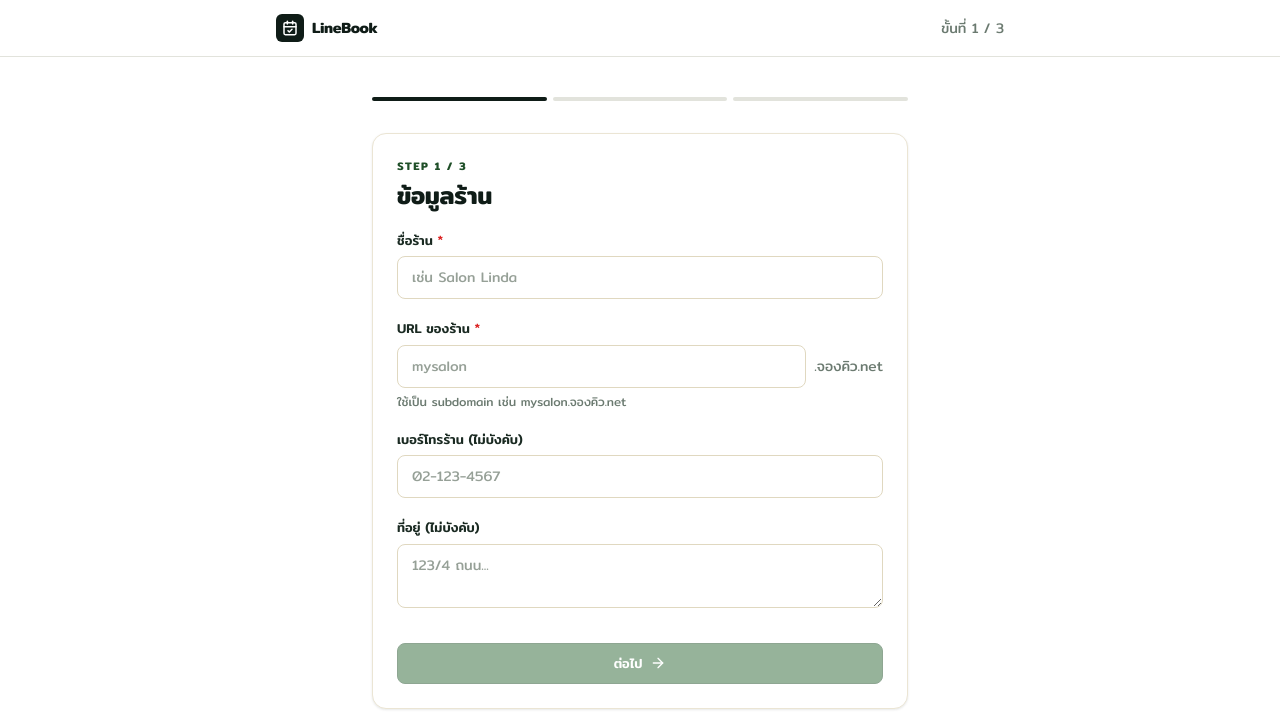
Scenario: SignupPage › shows 'taken' error message when slug is unavailable
Type "hairx" into the field with placeholder "mysalon".
click(602, 366); type("hairx")  # box 397,344 -> 806,388
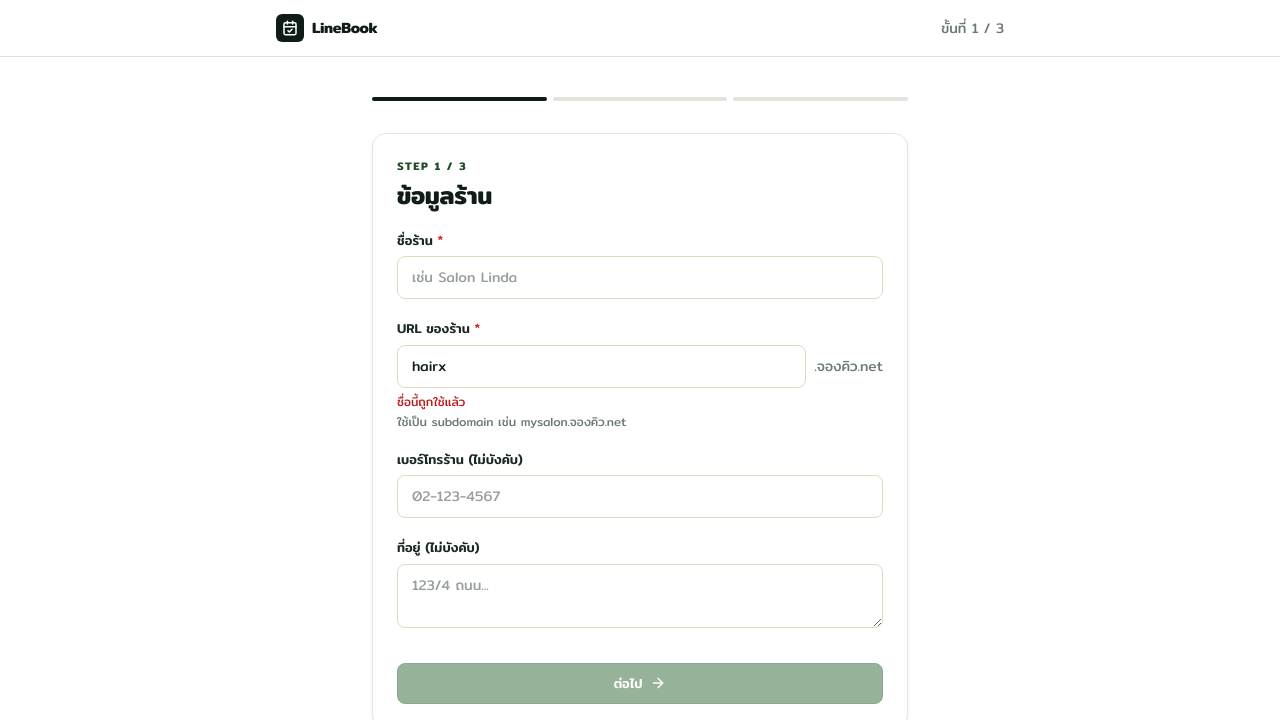
Expected: the text "ชื่อนี้ถูกใช้แล้ว" is shown, 397,392 -> 465,410
